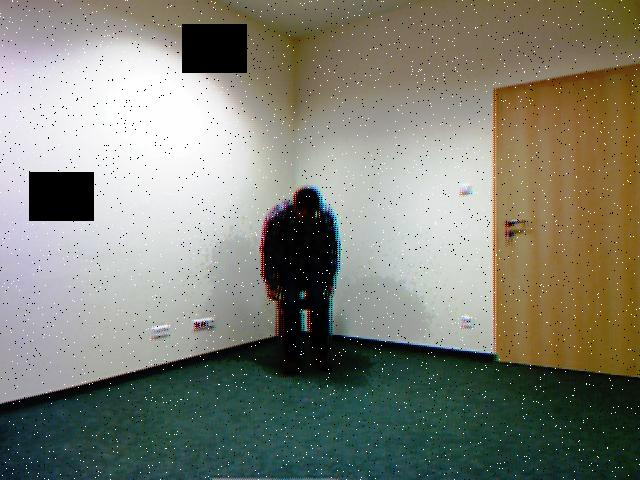bending: (258, 174, 349, 378)
